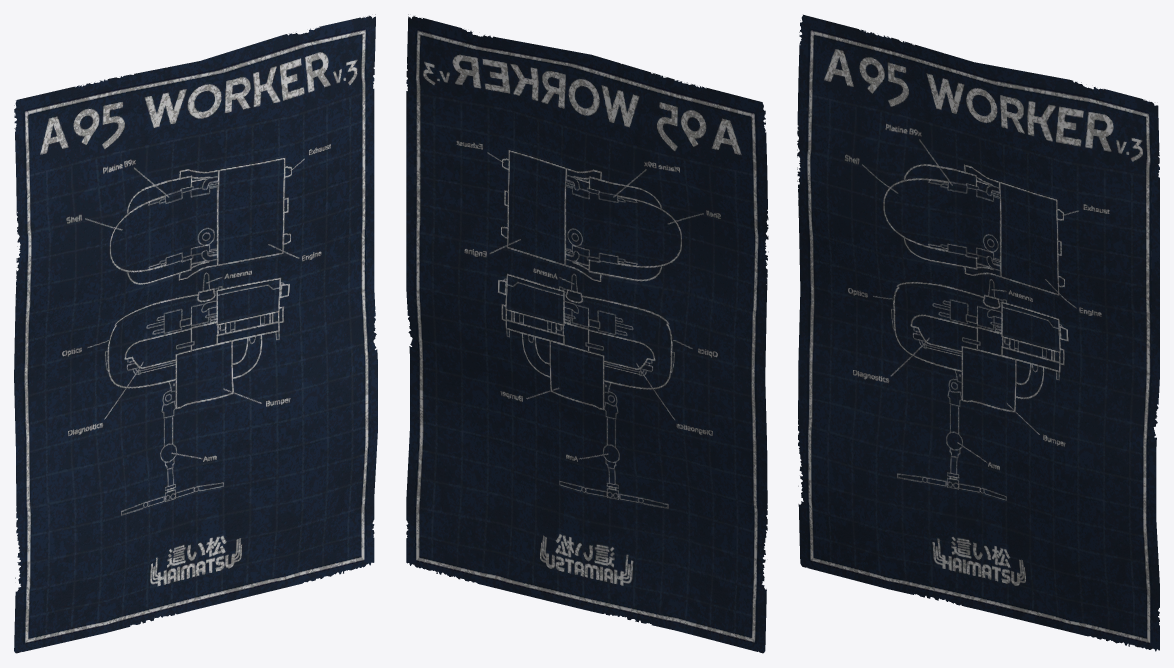
The model's file is poster_bot_worker.dae.
The picture shows the model from 3 angles, left to right: view 1: azimuth 30°, elevation 25°; view 2: azimuth 150°, elevation 25°; view 3: azimuth 330°, elevation 25°; orthographic projection.
Parts seen in each view (by area): view 1: poster_bot_worker; view 2: poster_bot_worker; view 3: poster_bot_worker.
Boxes of the visible parts, x1,y1,x2,y2 form: poster_bot_worker: [14, 14, 377, 653]; poster_bot_worker: [406, 14, 768, 653]; poster_bot_worker: [797, 14, 1159, 651].
Size of the model in its own units: 83.58 by 123 by 2.79.
